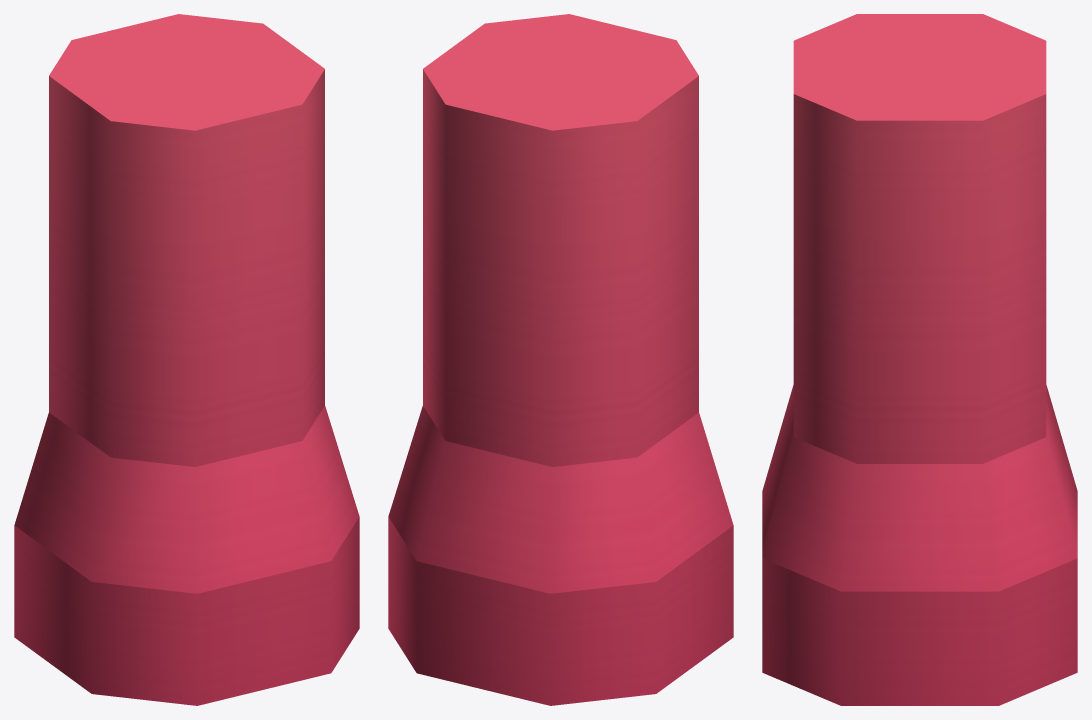
Rendered from support-bottom.fbx.
3 renders of one model, left to right at view 1: azimuth 30°, elevation 25°; view 2: azimuth 150°, elevation 25°; view 3: azimuth 270°, elevation 25°, orthographic. The views are drawn at different scales.
Visible parts, largest first — view 1: support_bottom; view 2: support_bottom; view 3: support_bottom.
Boxes of the visible parts, x1,y1,x2,y2 form: support_bottom: (14, 14, 359, 705); support_bottom: (388, 14, 733, 705); support_bottom: (762, 14, 1077, 705).
Size of the model in its own units: 50 by 100 by 50.
